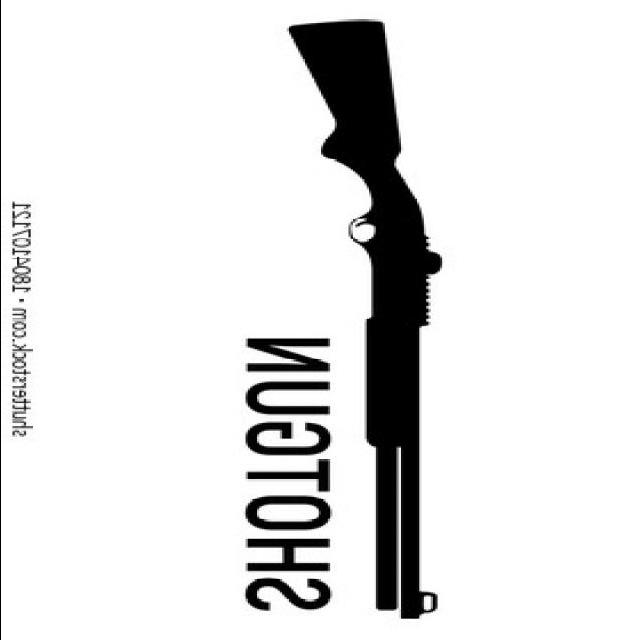shotgun: (321, 15, 450, 625)
